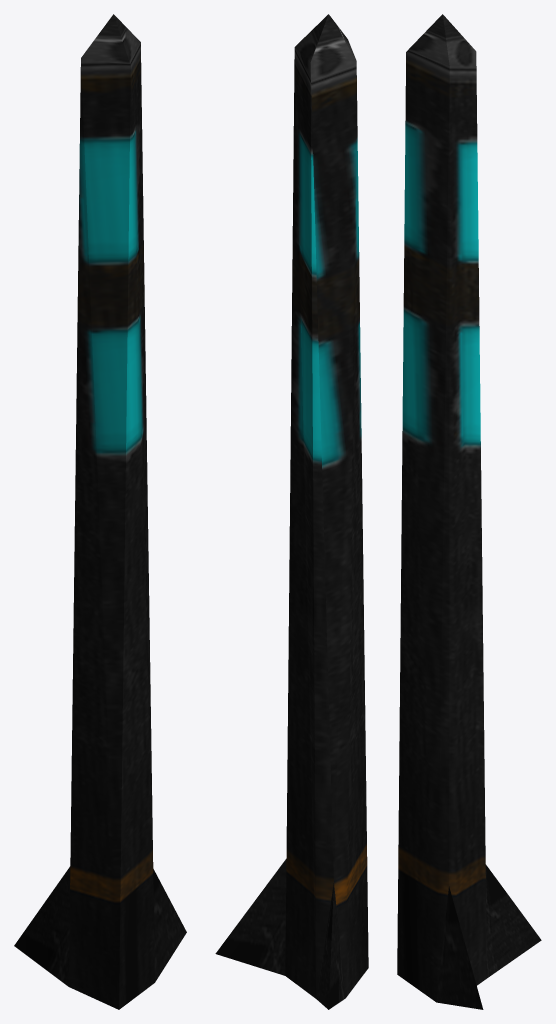
File: Ammo_Rocket_launcher_lod1.FBX
3 renders of one model, left to right at view 1: azimuth 30°, elevation 25°; view 2: azimuth 150°, elevation 25°; view 3: azimuth 270°, elevation 25°, orthographic.
Parts seen in each view (by area): view 1: LOD2_rockets; view 2: LOD2_rockets; view 3: LOD2_rockets.
Part boxes in pixels (x1=…): LOD2_rockets: x1=14, y1=14, x2=186, y2=1009; LOD2_rockets: x1=215, y1=14, x2=368, y2=1009; LOD2_rockets: x1=397, y1=14, x2=541, y2=1009.
Size of the model in its own units: 54.51 by 354 by 47.78.
